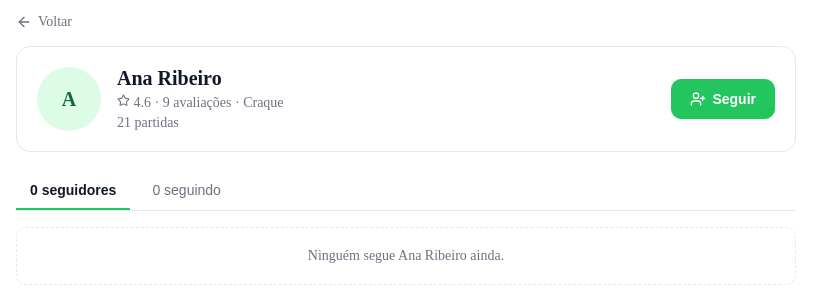
Test: Jogador › as duas abas dizem coisas opostas quando vazias
This screenshot has width=813, height=302.
Expected: the text "Ninguém segue Ana Ribeiro ainda." is shown, [16,227,796,285]
Click the tab "0 seguindo".
click(187, 191)  # box [138,172,235,210]
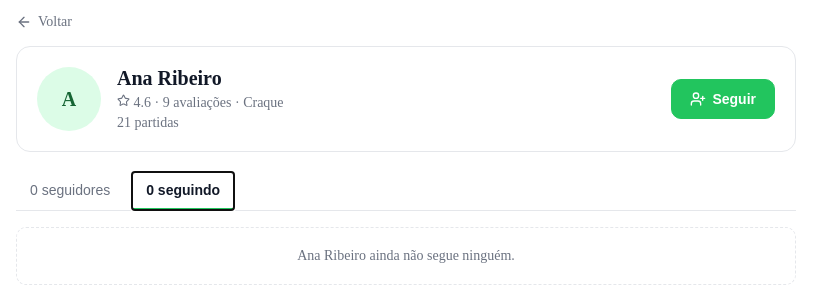
Expected: the text "Ana Ribeiro ainda não segue ninguém." is shown, [16,227,796,285]
